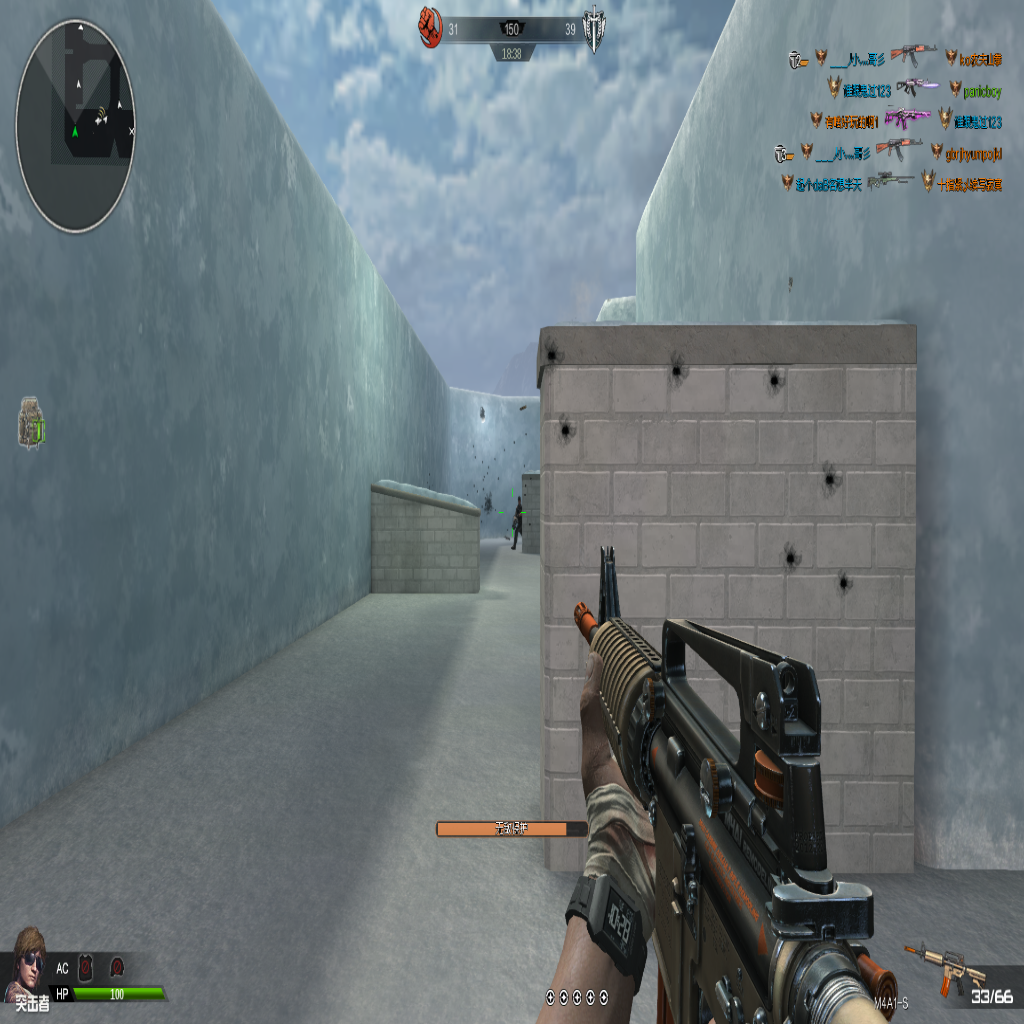ct: (510, 494, 525, 550)
